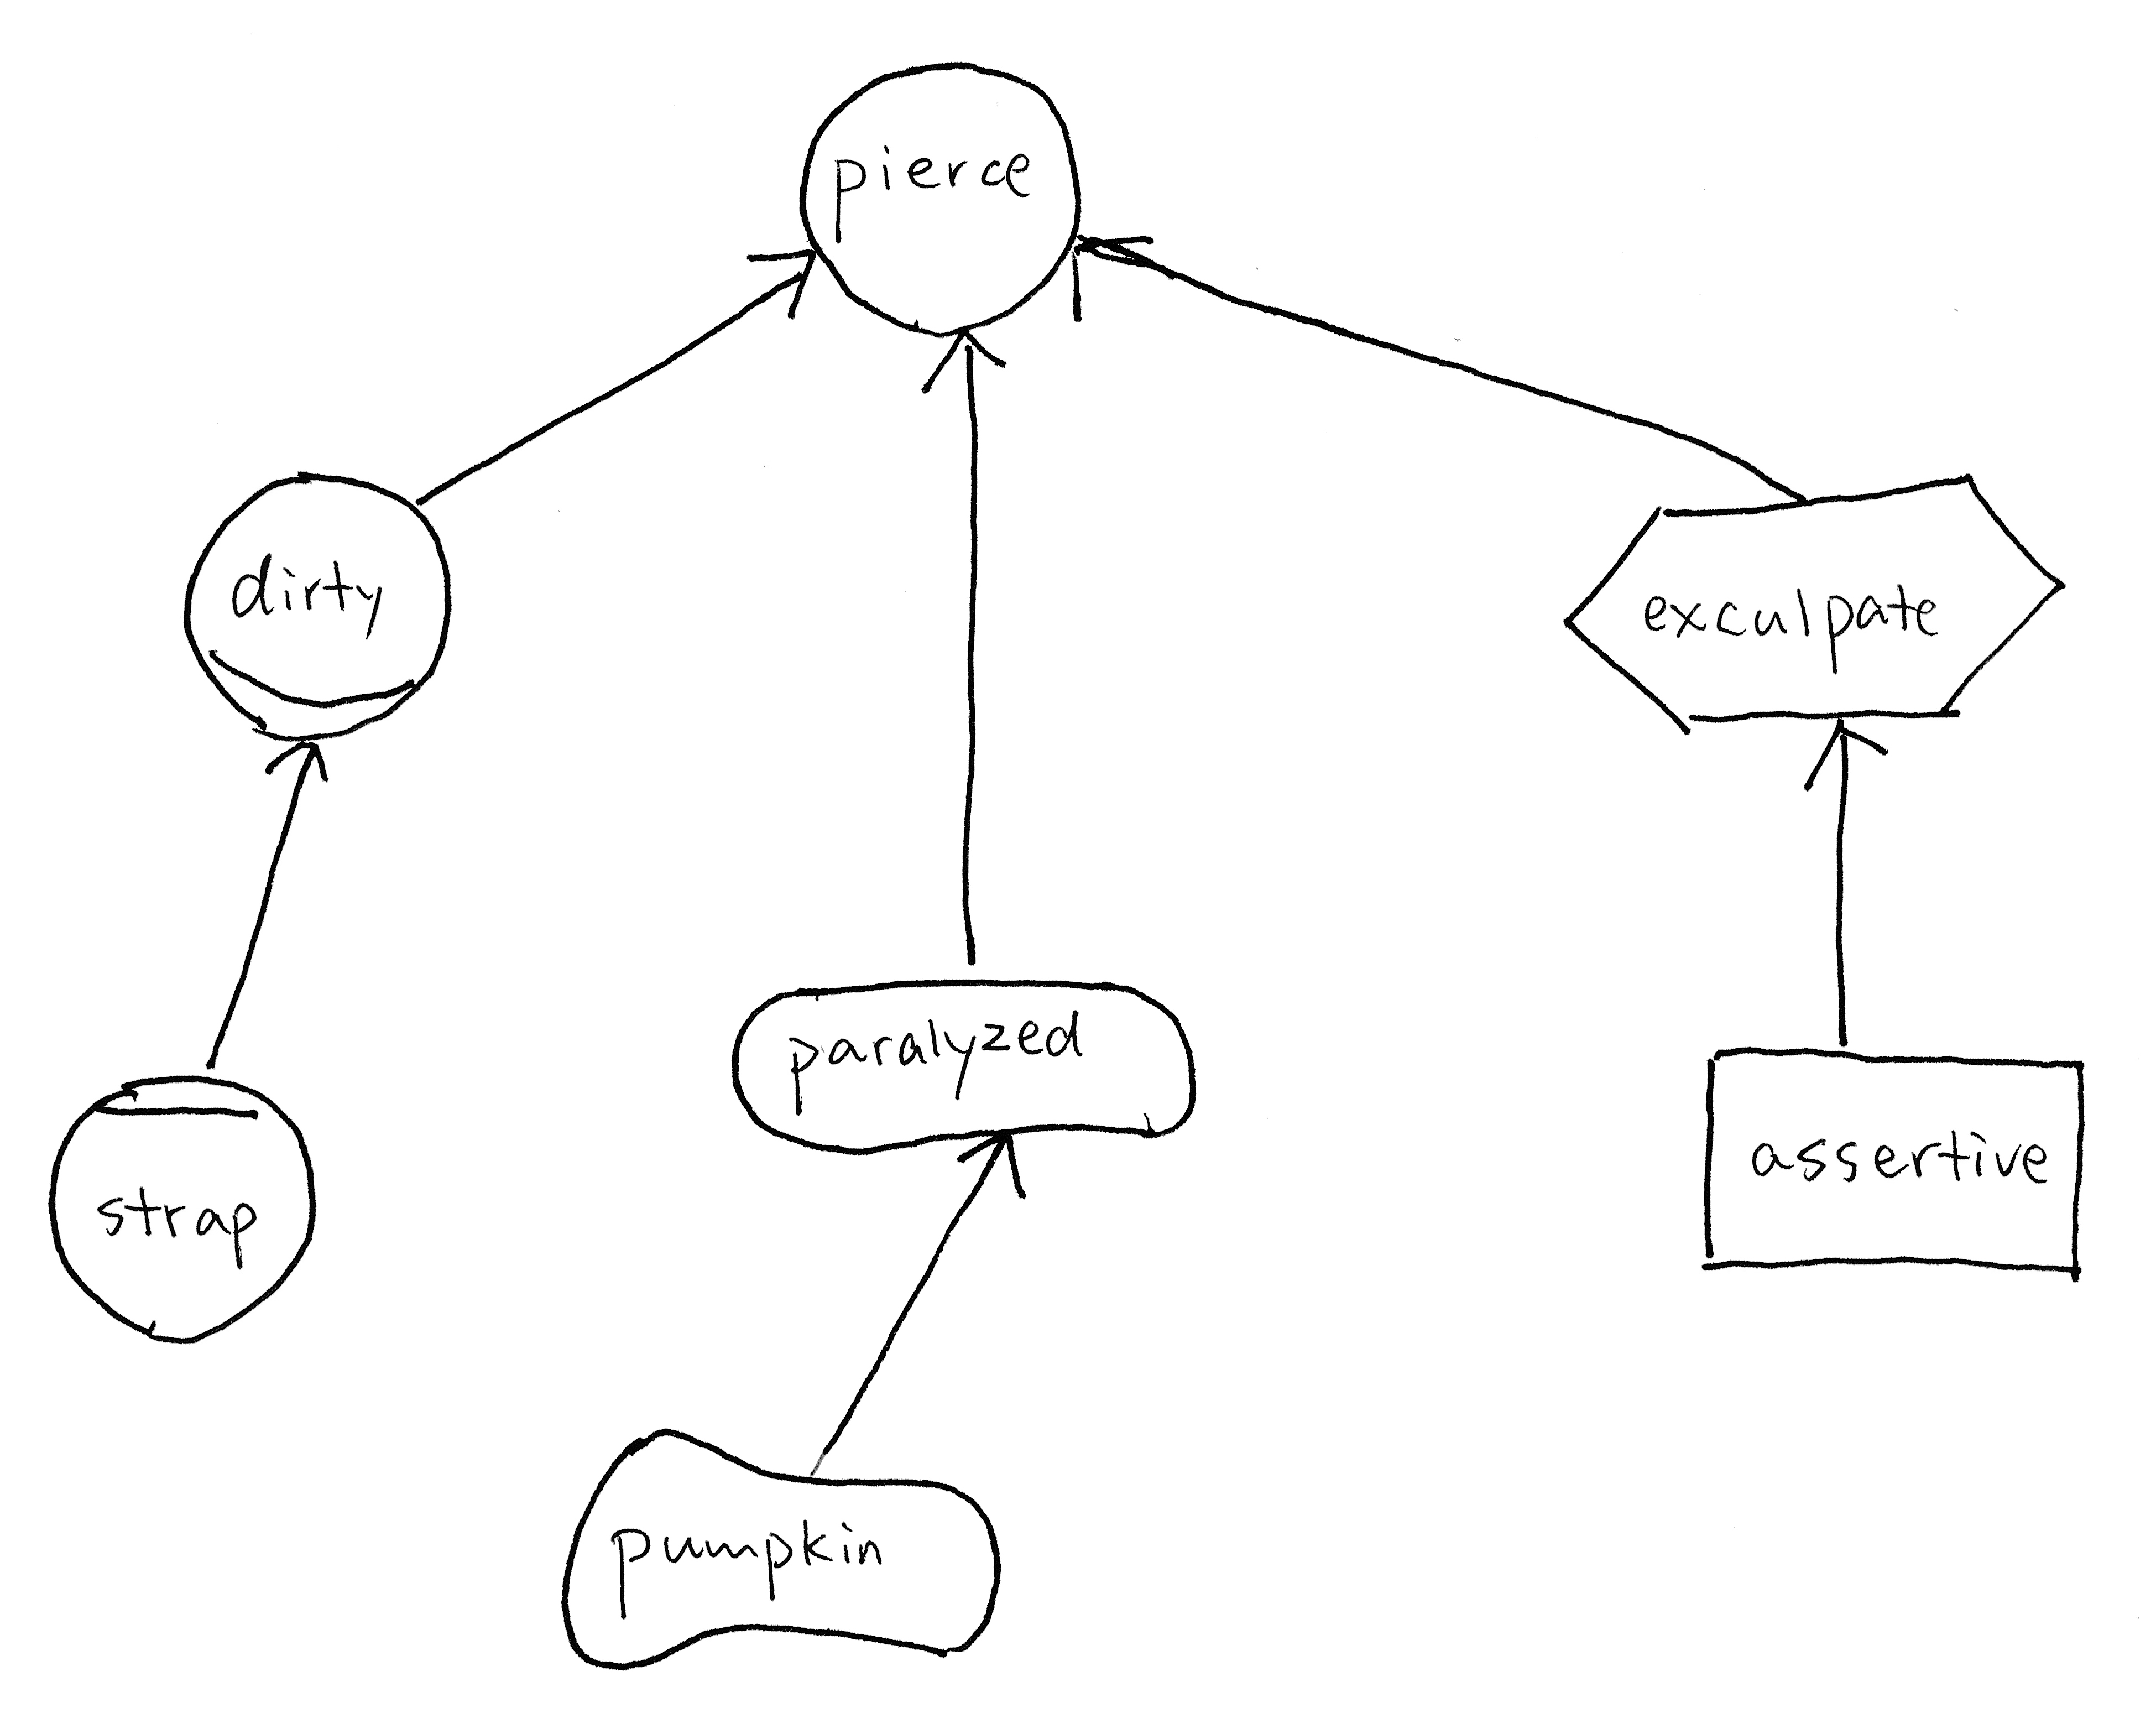actor: (775, 46, 1100, 349)
agent: (37, 1055, 329, 1361)
arrow: (1047, 214, 1171, 333), (893, 313, 1033, 412), (943, 1115, 1059, 1210), (1786, 706, 1903, 798), (727, 226, 833, 327), (235, 722, 352, 796)
goal: (715, 961, 1217, 1173)
quality: (531, 1410, 1019, 1683)
resource: (1680, 1023, 2114, 1293)
role: (152, 453, 469, 761)
task: (1549, 453, 2092, 754)
